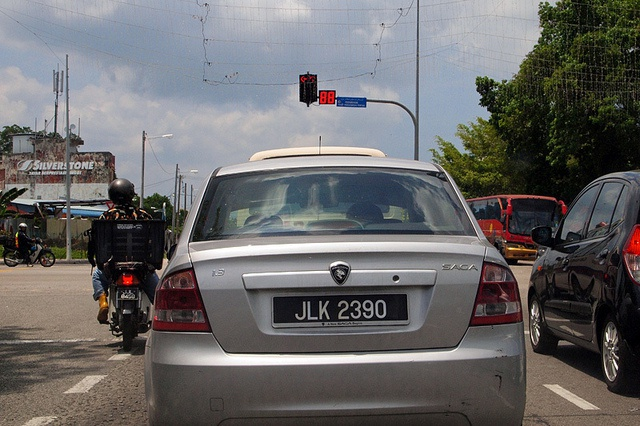non-vehicle: (104, 256, 154, 353), (3, 236, 55, 267)
